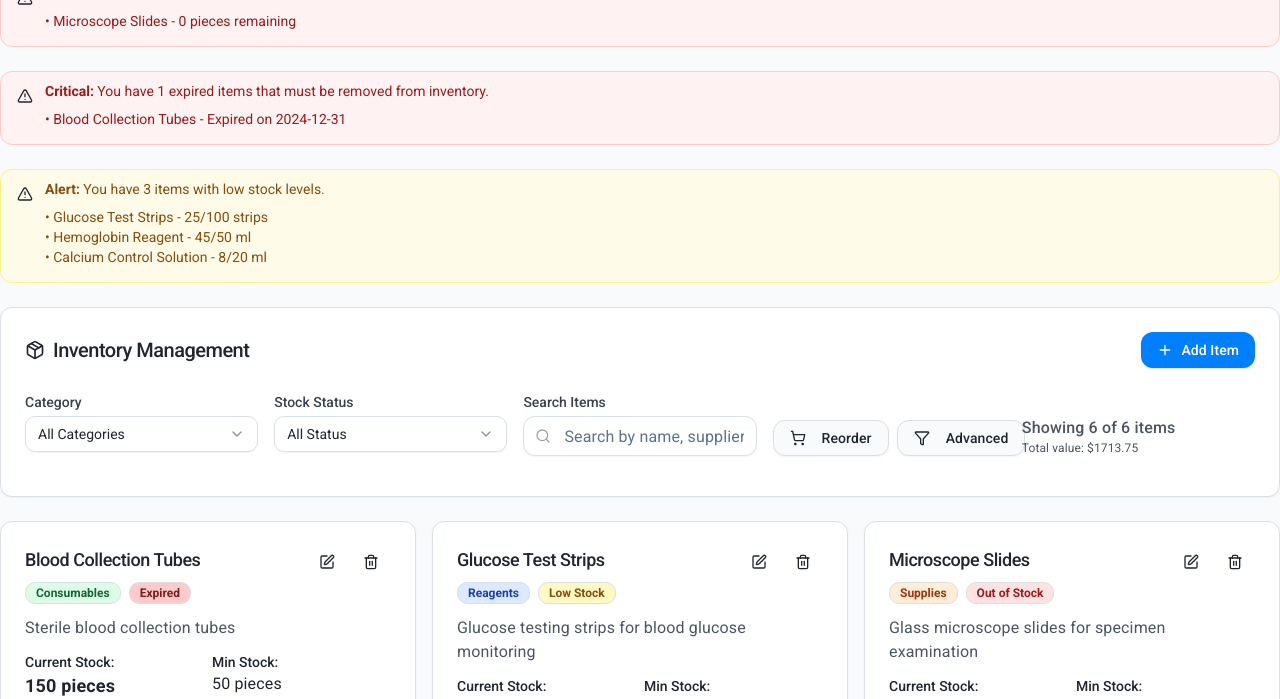
Test: Lab Inventory Manager › Add Item Form › opens add item form when Add Item button is clicked
(page scrolled)
Click the button "Add Item" at x=1198, y=350, box [1141,332,1255,368]
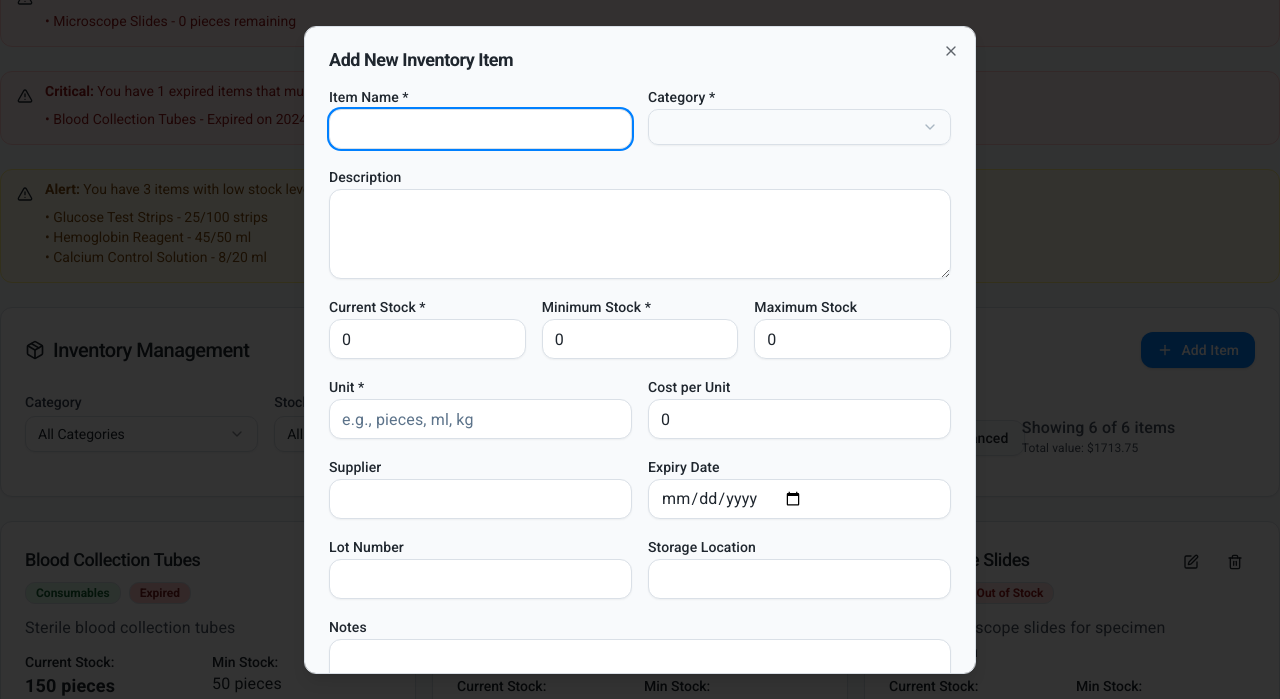
Expected: the heading "Add New Inventory Item" is shown, [329,49,513,70]
